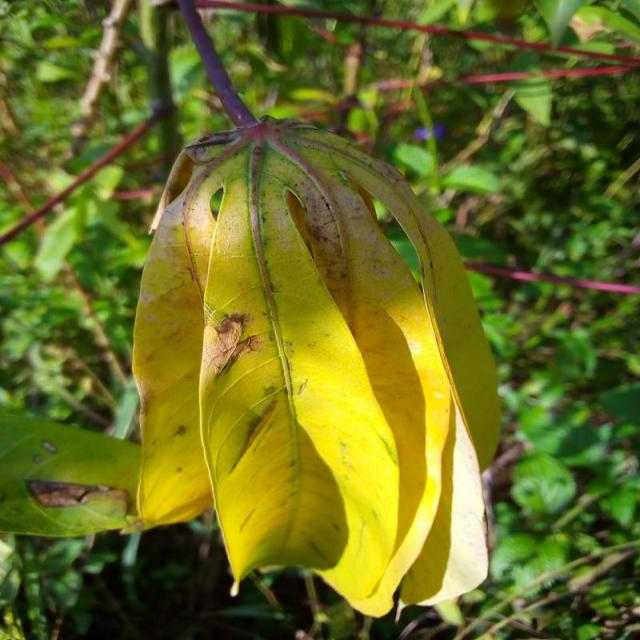cassava leaf: (130, 114, 500, 619)
